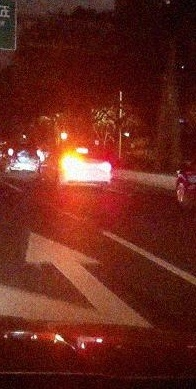L_light: (62, 160, 77, 168)
R_light: (97, 162, 111, 171)
T_light: (77, 148, 88, 153)
night-left: (58, 144, 112, 191)
